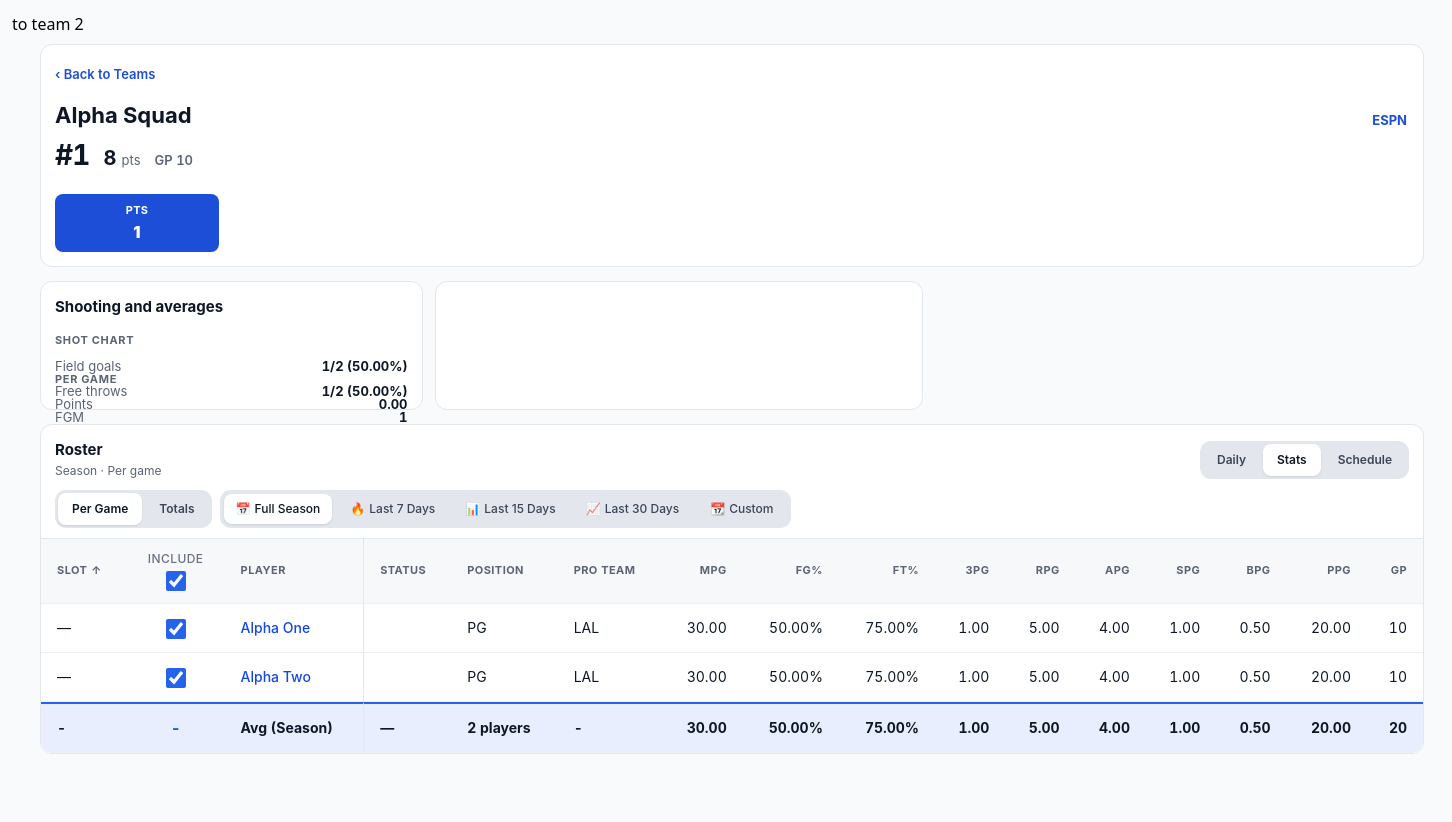
TeamDetail › starts every player included again after moving to another team
The width and height of the screenshot is (1452, 822).
expect the text "Alpha One" is shown: met, box [241,619,310,636]
Click the checkbox next to "Alpha One".
click(176, 629)  # box [166,619,186,639]
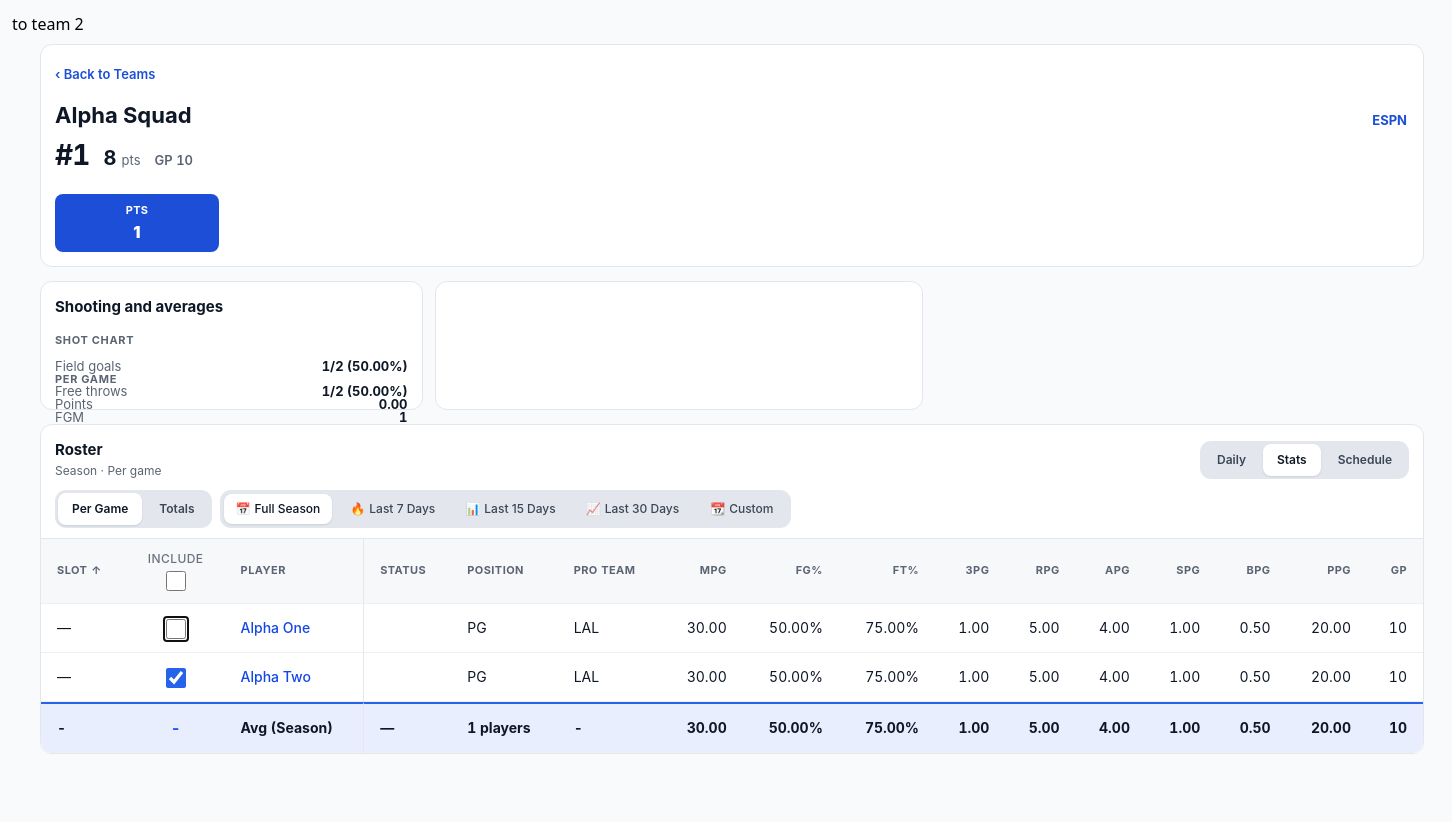
expect the checkbox next to "Alpha One" is not checked: met, box [166,619,186,639]
Click the link "to team 2".
click(48, 24)  # box [12,13,84,35]
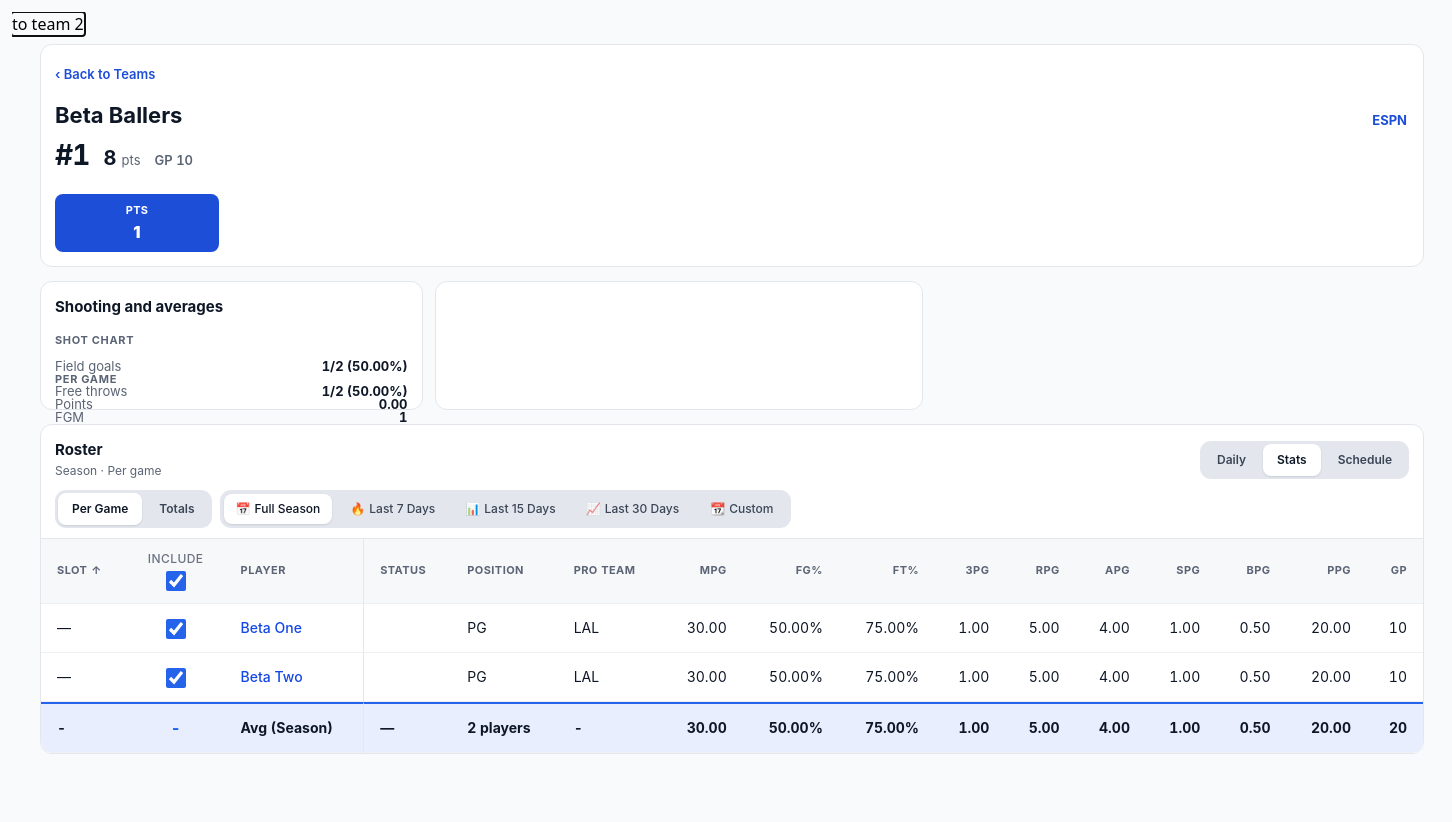
expect the checkbox next to "Beta One" is checked: met, box [166,619,186,639]
expect the text "Beta Two" is shown: met, box [241,668,303,685]
expect the text "2 players" is shown: met, box [451,702,558,753]
